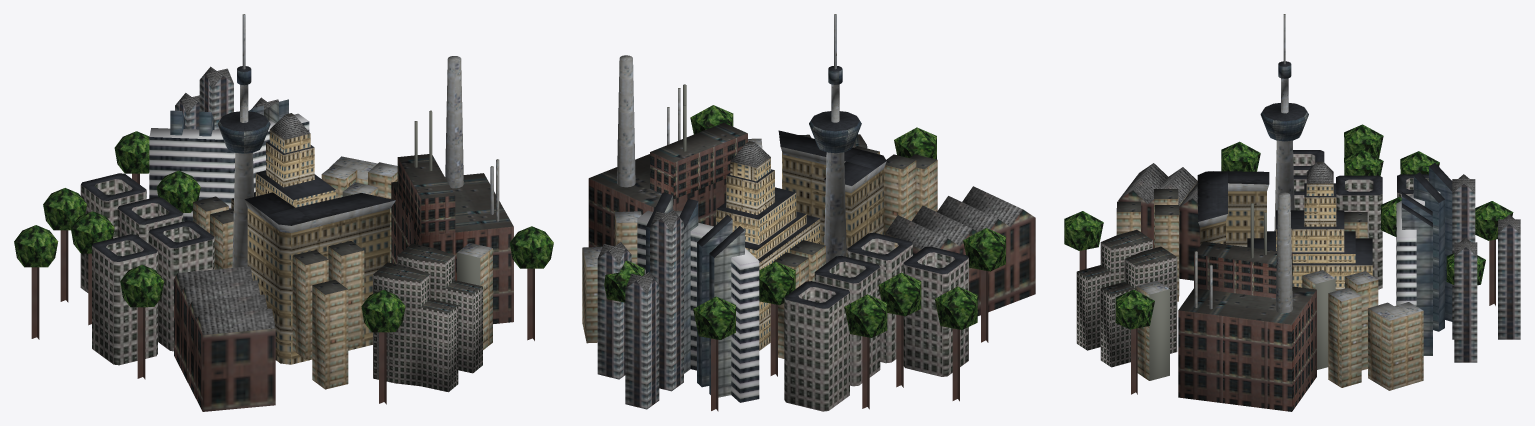
File: city_modern_2.glb
3 renders of one model, left to right at view 1: azimuth 30°, elevation 25°; view 2: azimuth 150°, elevation 25°; view 3: azimuth 270°, elevation 25°, orthographic. The views are drawn at different scales.
Visible parts, largest first — view 1: ModernCity_Tier3; view 2: ModernCity_Tier3; view 3: ModernCity_Tier3.
Boxes of the visible parts, x1,y1,x2,y2 form: ModernCity_Tier3: [14, 14, 553, 411]; ModernCity_Tier3: [582, 14, 1035, 411]; ModernCity_Tier3: [1064, 14, 1520, 411].
Bounding box in the file's own units: 3.6 × 2.57 × 3.63.
Materials: 1 (1 with a texture image).
